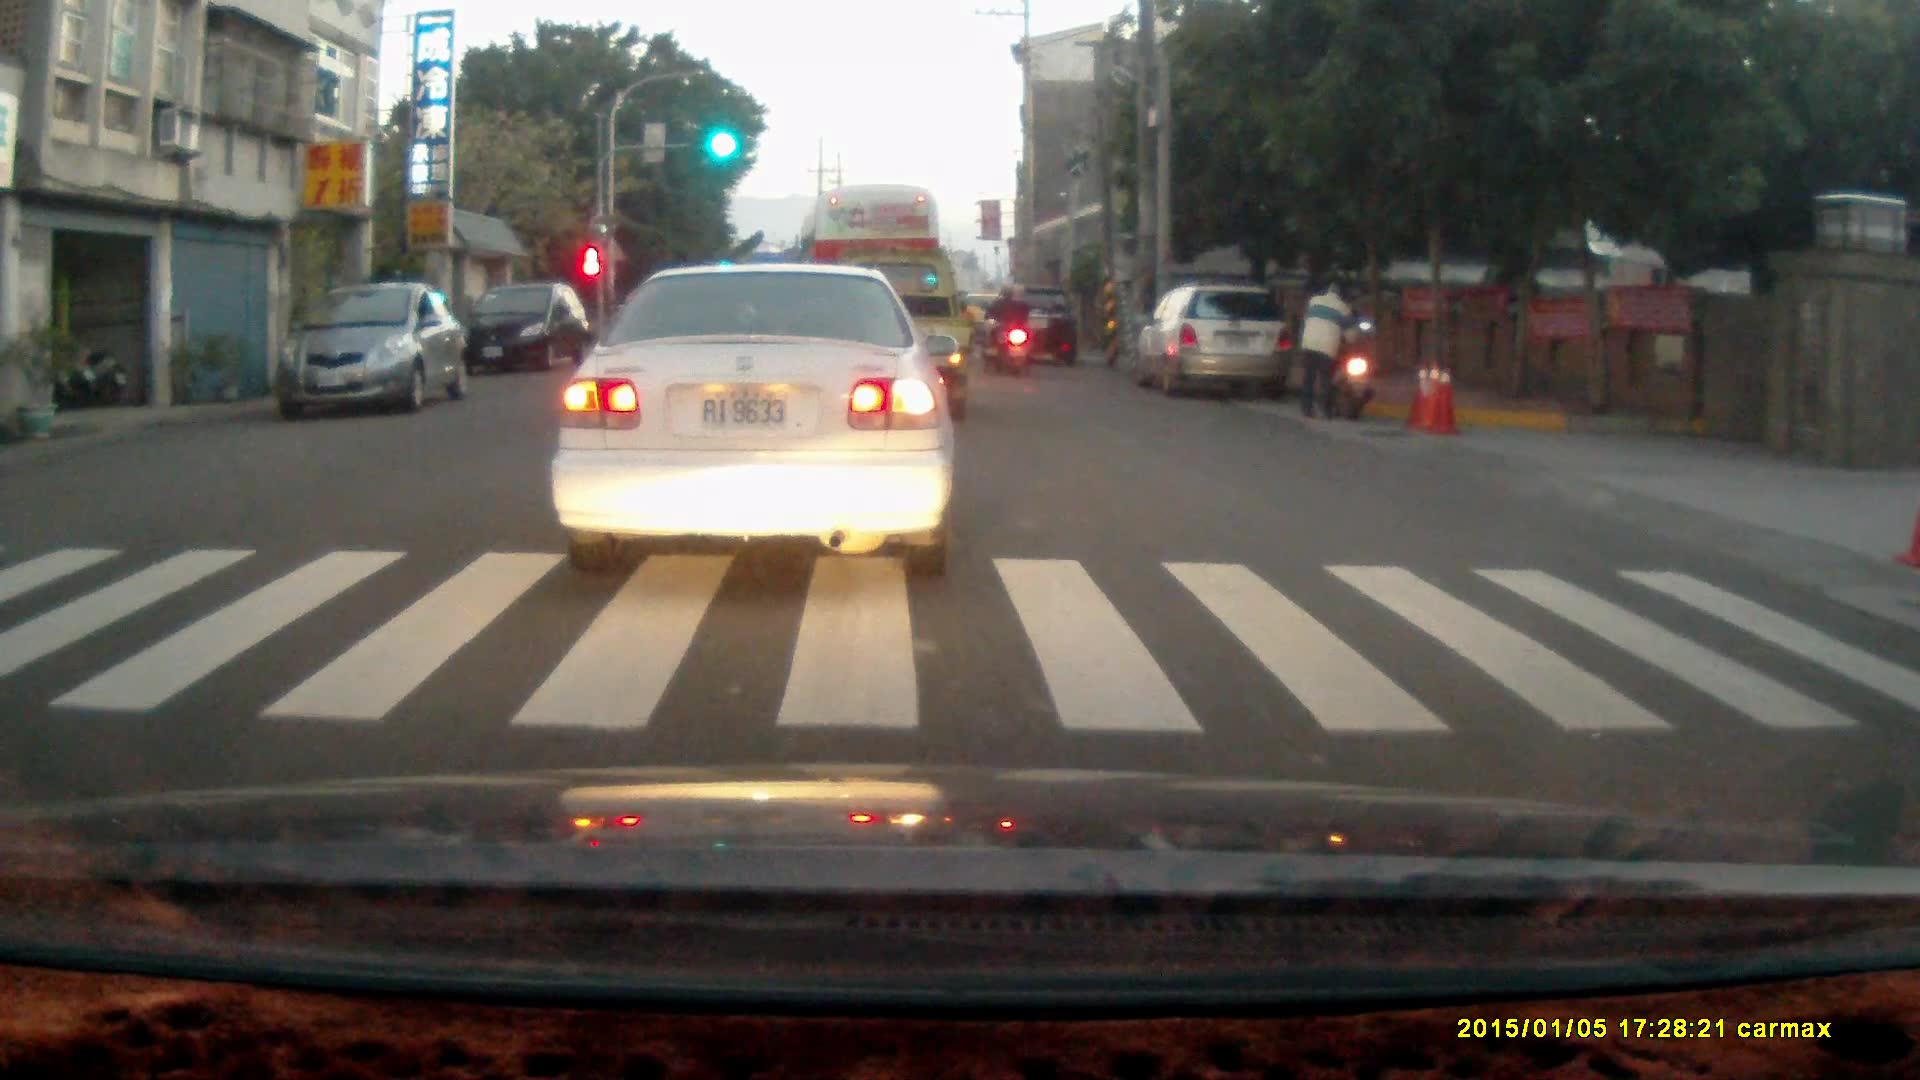pedestrian: (1299, 280, 1356, 418)
rider: (980, 278, 1029, 379)
vehicle: (550, 267, 958, 576), (791, 187, 947, 385), (269, 282, 480, 421), (1140, 286, 1292, 396), (460, 284, 587, 383), (990, 288, 1084, 367)
